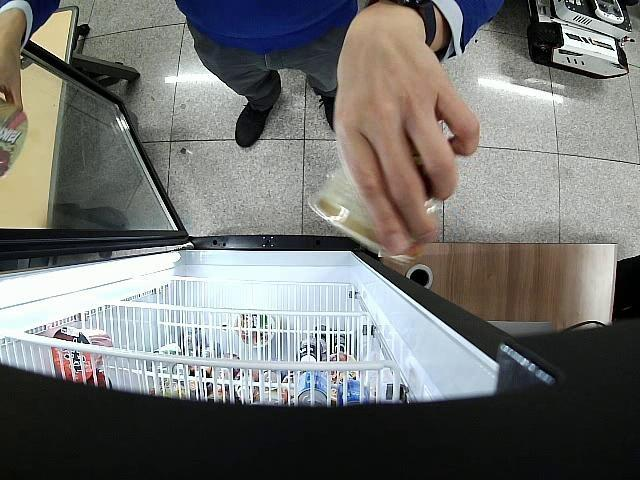04_chapagetti_S: (308, 146, 430, 253), (0, 98, 29, 183)
